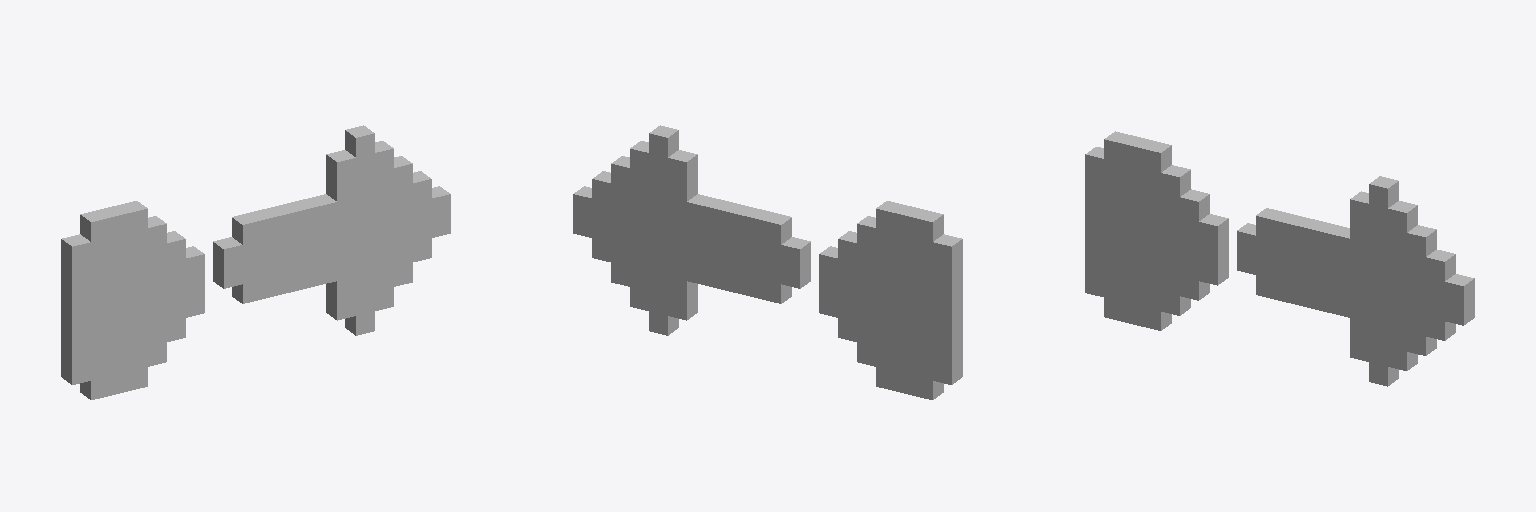
Rendered from D sign.obj.
The picture shows the model from 3 angles: view 1: azimuth 30°, elevation 25°; view 2: azimuth 150°, elevation 25°; view 3: azimuth 330°, elevation 25°; orthographic projection.
Parts seen in each view (by area): view 1: object 1; view 2: object 1; view 3: object 1.
Part boxes in pixels (x1,y1,x2,y2): object 1: (61,125,450,399); object 1: (573,125,962,399); object 1: (1085,131,1474,386).
Size of the model in its own units: 2 by 1 by 0.1.